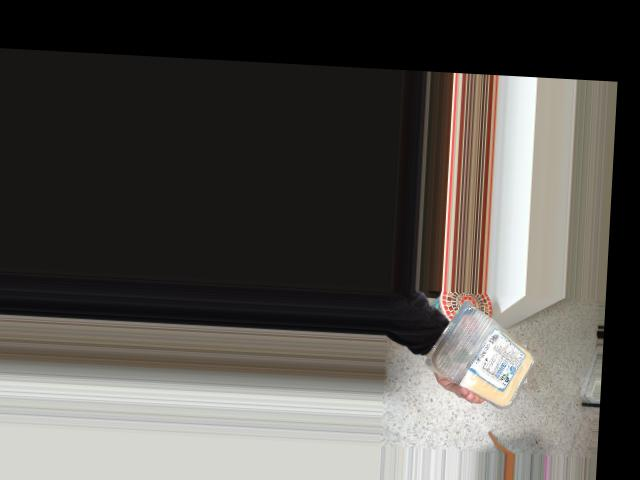cheese: (431, 303, 545, 399)
